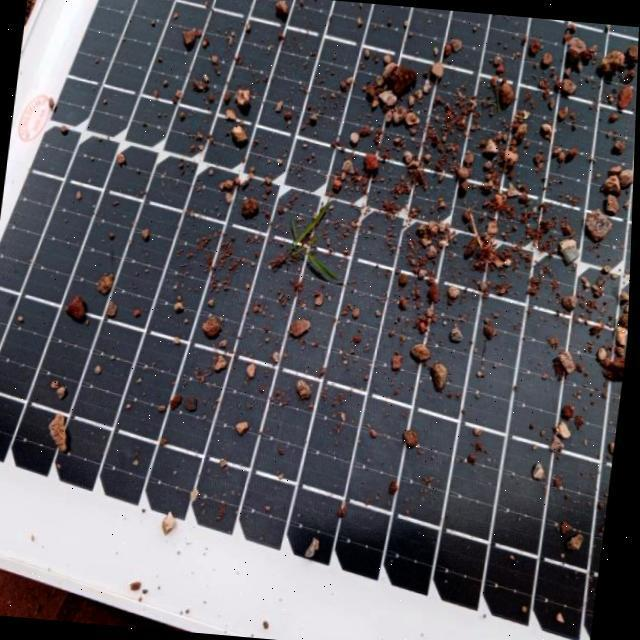Surface Contaminant: (6, 0, 639, 606)
